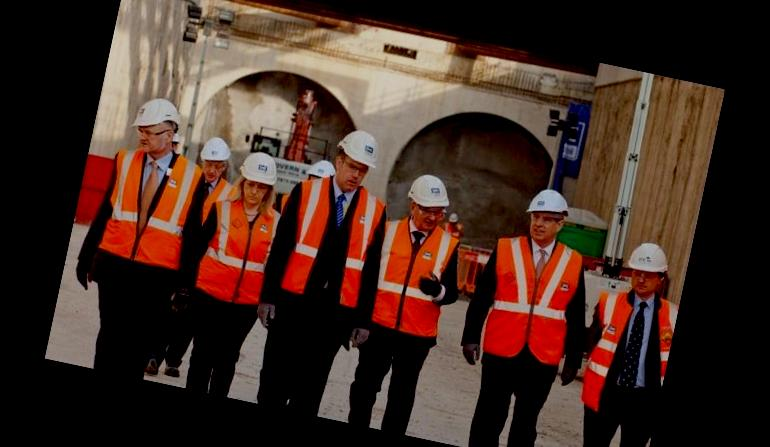helmet: (126, 86, 189, 136), (330, 126, 387, 175), (402, 171, 457, 213), (233, 148, 286, 189), (624, 241, 674, 275), (527, 187, 573, 220)
person: (64, 88, 224, 404), (437, 175, 620, 447), (248, 119, 410, 424), (344, 166, 488, 442), (161, 143, 295, 400), (555, 231, 693, 447)
